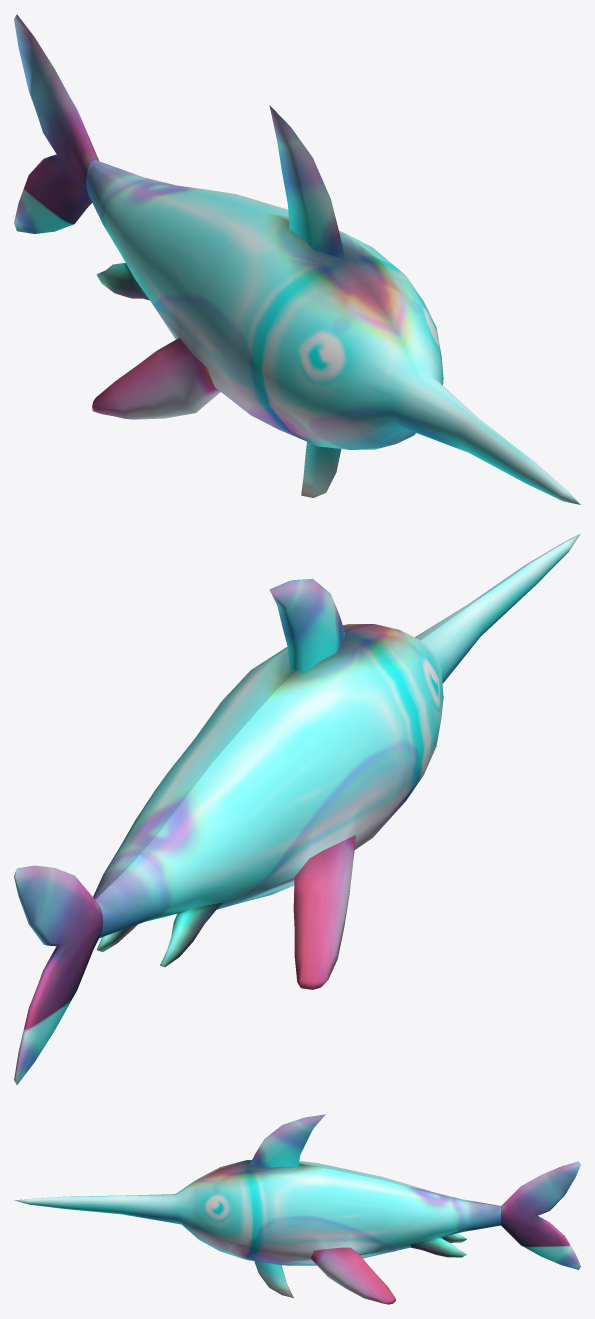
Rendered from kajikia.FBX.
3 views of the same model, one above another, from view 1: azimuth 30°, elevation 25°; view 2: azimuth 150°, elevation 25°; view 3: azimuth 270°, elevation 25° (orthographic). The views are drawn at different scales.
Visible parts, largest first — view 1: Kajikia; view 2: Kajikia; view 3: Kajikia.
Part boxes in pixels (box(x1,y1,x2,y2)): Kajikia: box(14, 14, 580, 504); Kajikia: box(14, 534, 580, 1084); Kajikia: box(14, 1114, 580, 1304).
Bounding box in the file's own units: 38.48 × 58.21 × 163.
Materials: 1 (1 with a texture image).
